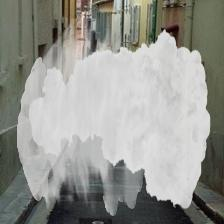fire: (17, 21, 211, 216)
